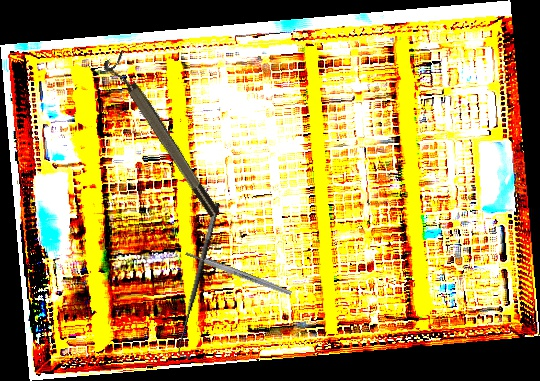Fixation Ring: (101, 50, 223, 224)
Hook Surgical: (171, 201, 232, 361)
Scalpel Handle: (184, 249, 293, 298)
